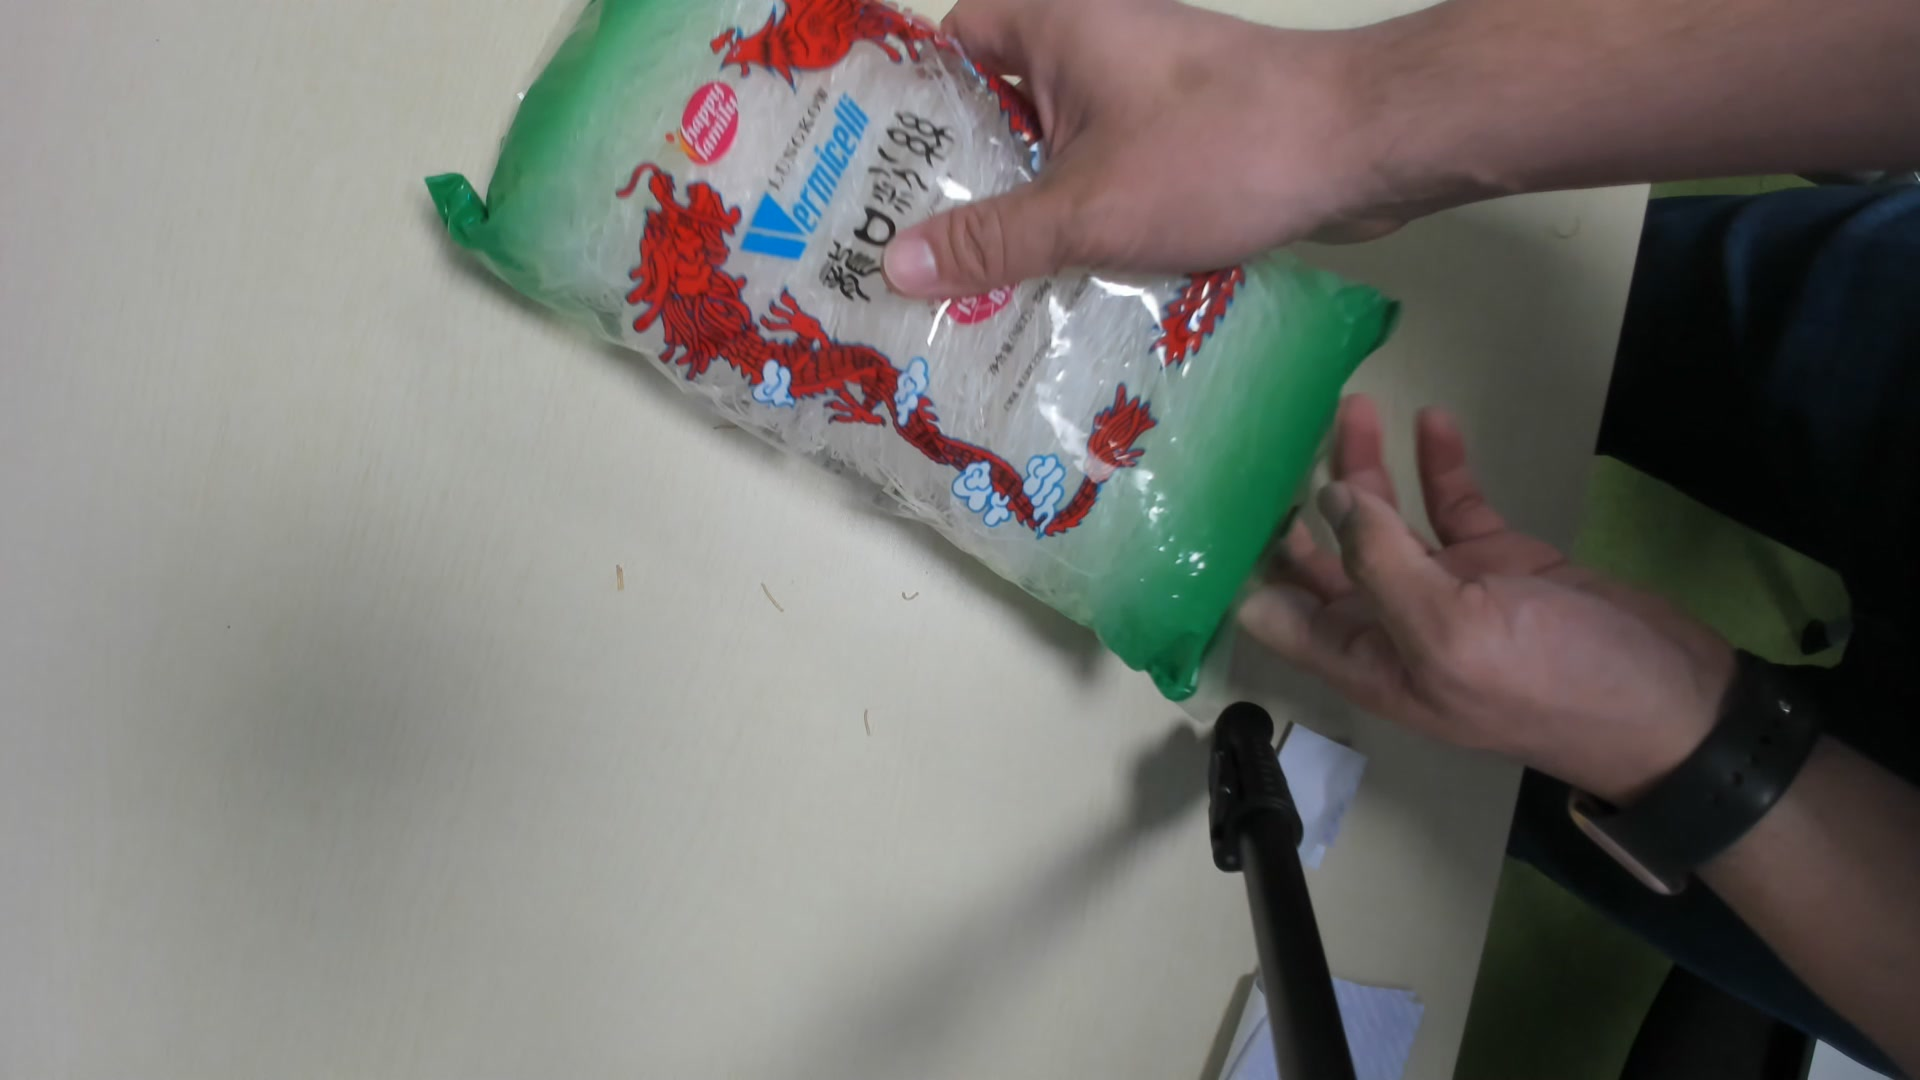BeeHoonVermicelli_200-299g_Halal_NonHealthy: (426, 7, 1402, 698)
